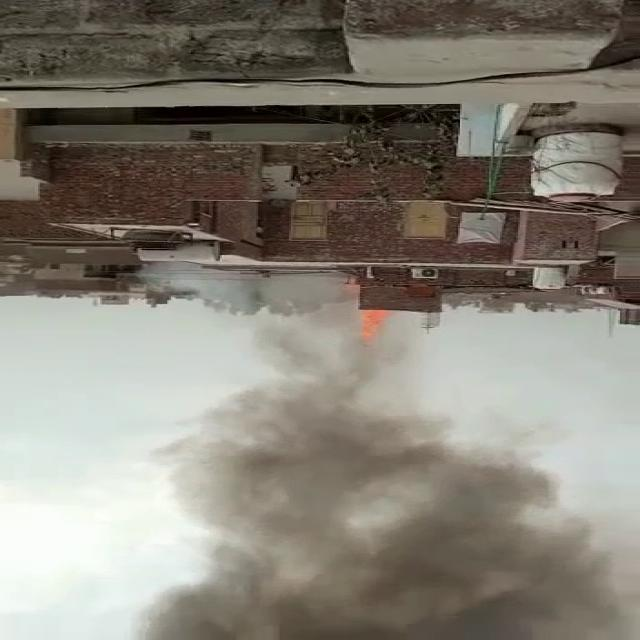Fire: (347, 275, 402, 354)
Smoke: (131, 372, 615, 640)
